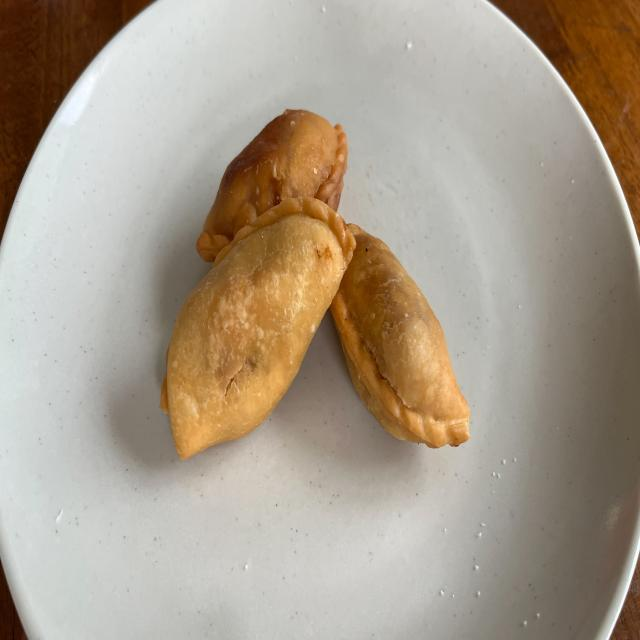karipap: (161, 196, 355, 460), (331, 224, 470, 449), (196, 109, 348, 262)
